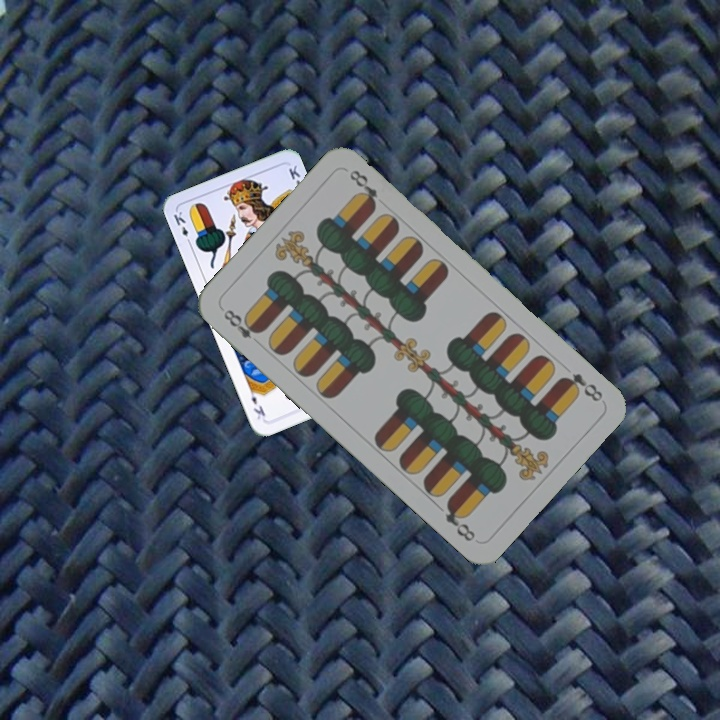E8: (556, 368, 606, 405), (219, 305, 265, 342)
EK: (169, 207, 194, 247)
